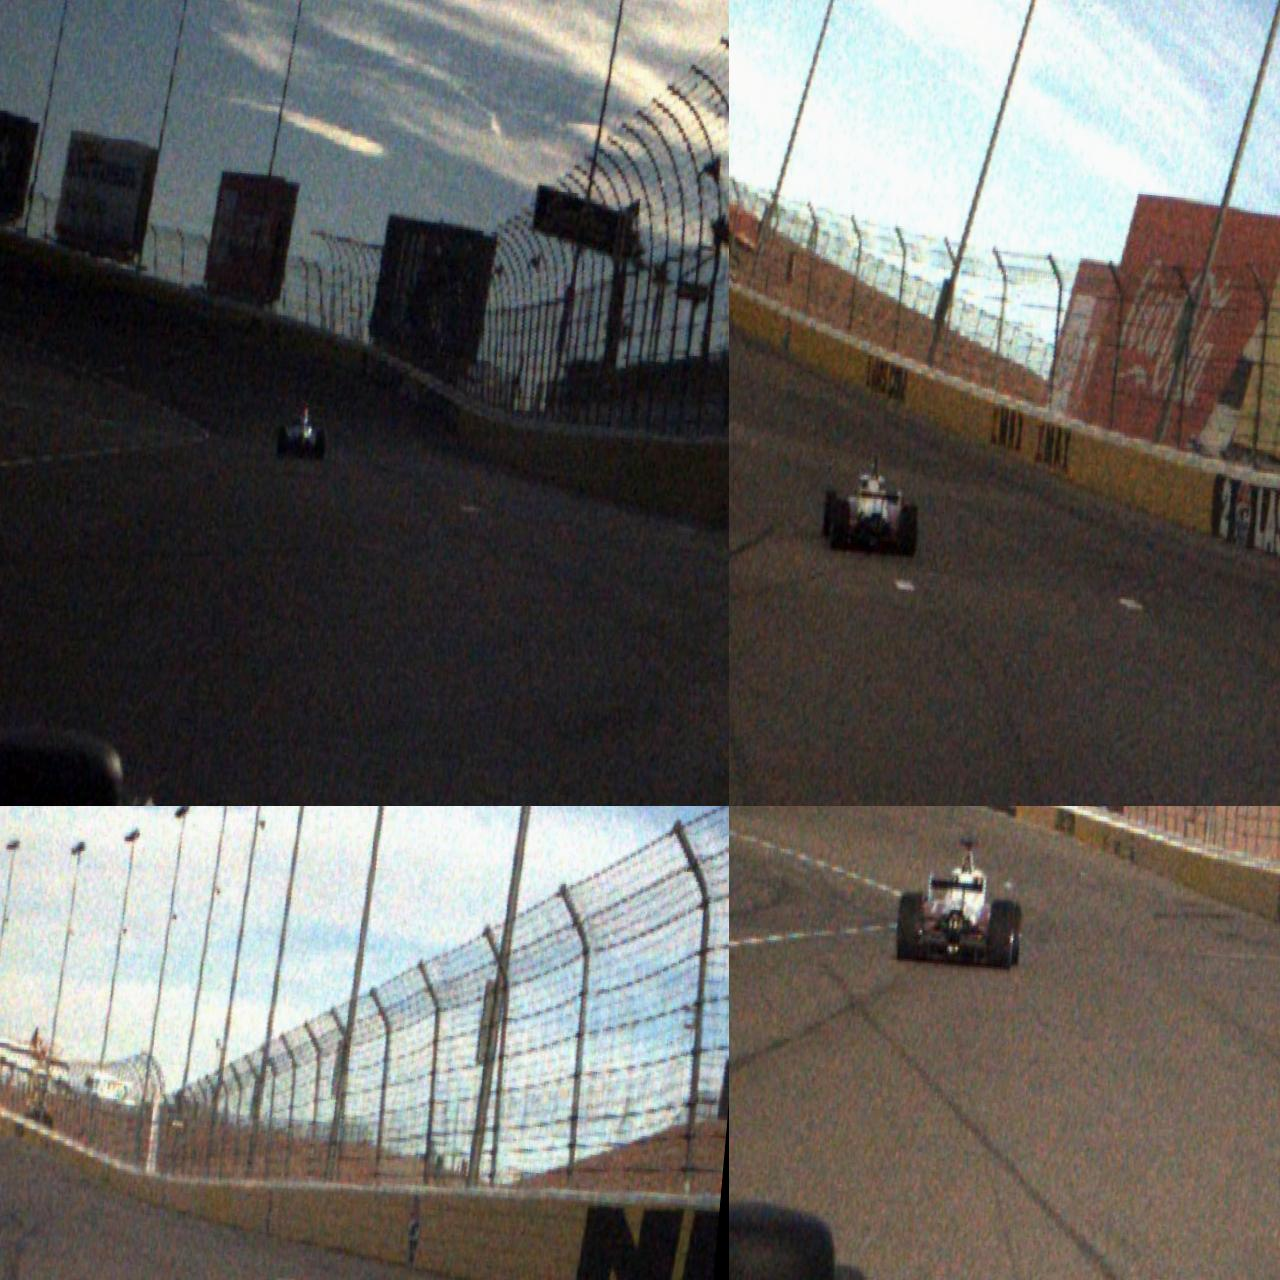AV: (896, 832, 1029, 973), (819, 447, 924, 559), (275, 396, 332, 463)
Wheel: (896, 892, 924, 962), (987, 900, 1015, 971), (896, 504, 919, 558), (829, 498, 851, 552), (1005, 903, 1023, 966), (821, 488, 838, 539), (313, 428, 328, 462), (275, 425, 287, 459)
